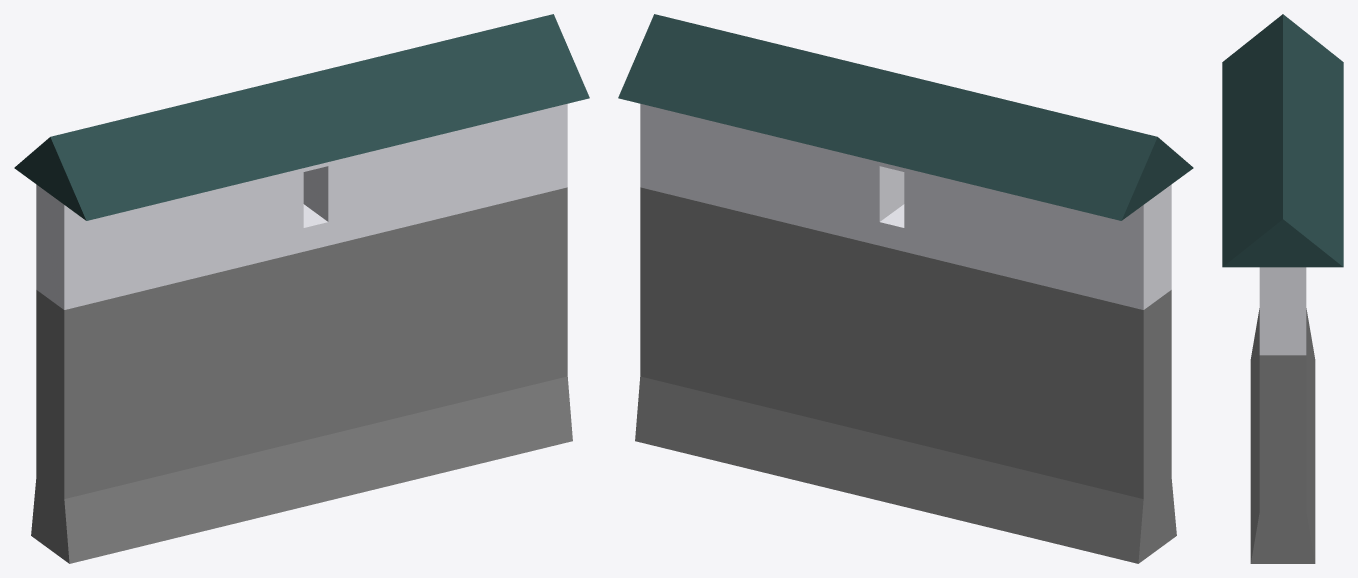
File: Asian_Prop_Building_Fence_Wall_High_Embrasure_01.FBX
3 views of the same model, side by side, from view 1: azimuth 30°, elevation 25°; view 2: azimuth 150°, elevation 25°; view 3: azimuth 270°, elevation 25° (orthographic). The views are drawn at different scales.
Visible parts, largest first — view 1: Asian_Prop_Building_Fence_Wall_High_Embrasure_01; view 2: Asian_Prop_Building_Fence_Wall_High_Embrasure_01; view 3: Asian_Prop_Building_Fence_Wall_High_Embrasure_01.
Part boxes in pixels (x1,y1,x2,y2): Asian_Prop_Building_Fence_Wall_High_Embrasure_01: [14, 14, 589, 563]; Asian_Prop_Building_Fence_Wall_High_Embrasure_01: [618, 14, 1193, 563]; Asian_Prop_Building_Fence_Wall_High_Embrasure_01: [1222, 14, 1343, 563].
Bounding box in the file's own units: 5167 × 4051 × 1290.
